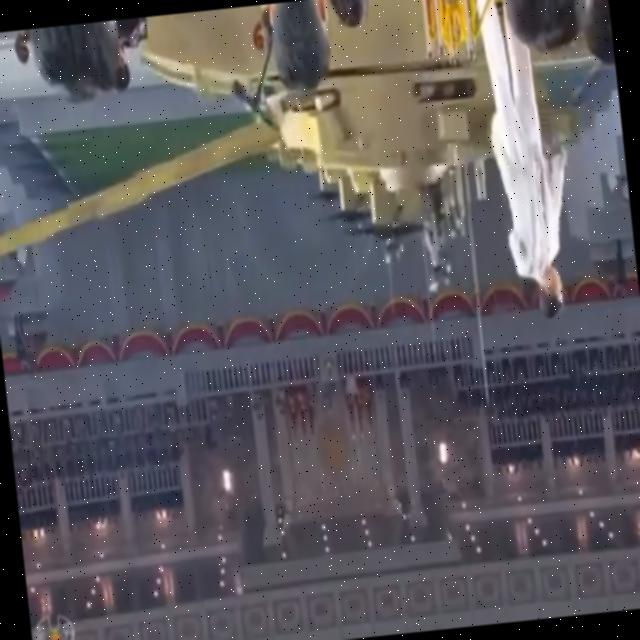north tank: (108, 0, 577, 277)
